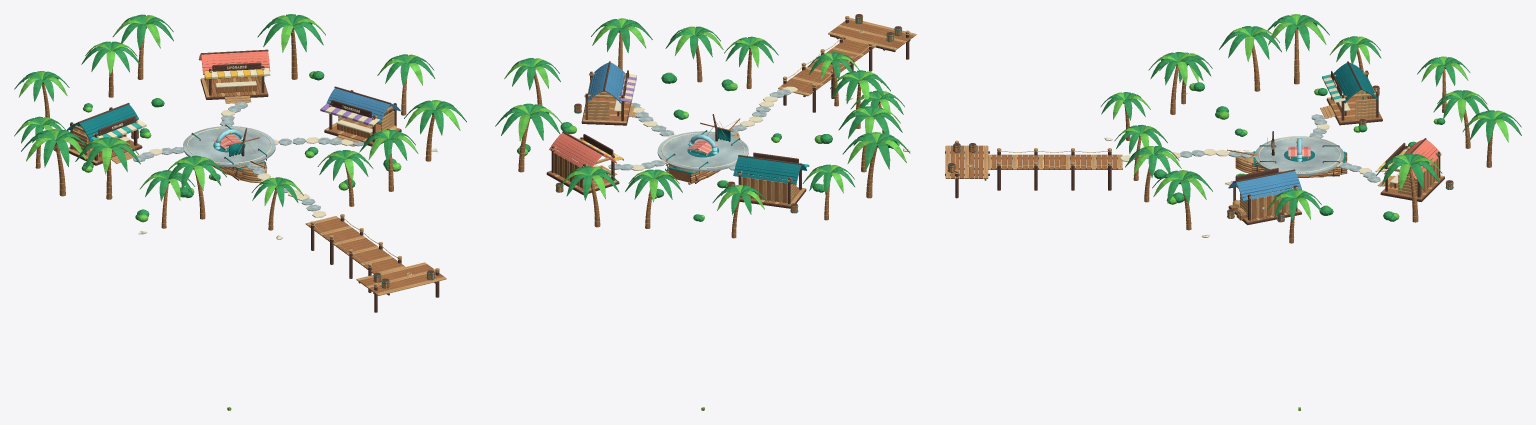
The model's file is SuckTheSea_Surfaces.fbx.
3 renders of one model, left to right at view 1: azimuth 30°, elevation 25°; view 2: azimuth 150°, elevation 25°; view 3: azimuth 270°, elevation 25°, orthographic. The views are drawn at different scales.
Parts seen in each view (by area): view 1: island__Buildings__UpgradeShop, island__Buildings__TreasureShop, island__Buildings__StrawShop, island__StarterIsland__Plaza, polish__Dock__PierBoard, island__StarterIsland__PathStone, island__Decorations__Palm_08, island__Decorations__Palm_12, polish__Dock__PierHead, island__Decorations__Palm_01, island__Decorations__Palm_06, island__Decorations__Palm_02 (+10 smaller); view 2: island__Buildings__StrawShop, island__Buildings__TreasureShop, island__Buildings__UpgradeShop, island__StarterIsland__Plaza, island__StarterIsland__PathStone, polish__Dock__PierBoard, polish__Dock__PierHead, island__Decorations__Palm_12, island__Decorations__Palm_08, island__Decorations__Palm_13, island__Decorations__Palm_06, island__Decorations__Palm_01 (+10 smaller); view 3: island__Buildings__StrawShop, island__Buildings__TreasureShop, island__StarterIsland__Plaza, polish__Dock__PierBoard, island__Buildings__UpgradeShop, island__Decorations__Palm_08, island__Decorations__Palm_12, polish__Dock__PierHead, island__StarterIsland__PathStone, island__Decorations__Palm_01, island__Decorations__Palm_02, island__Decorations__Palm_06 (+9 smaller).
Part boxes in pixels (bbox=[...]): island__Buildings__UpgradeShop: bbox=[198, 49, 270, 103]; island__Buildings__TreasureShop: bbox=[320, 86, 401, 146]; island__Buildings__StrawShop: bbox=[66, 103, 146, 165]; island__StarterIsland__Plaza: bbox=[183, 126, 275, 166]; polish__Dock__PierBoard: bbox=[305, 216, 405, 273]; island__StarterIsland__PathStone: bbox=[132, 102, 364, 217]; island__Decorations__Palm_08: bbox=[257, 14, 325, 79]; island__Decorations__Palm_12: bbox=[21, 129, 89, 196]; polish__Dock__PierHead: bbox=[356, 262, 446, 295]; island__Decorations__Palm_01: bbox=[75, 137, 140, 199]; island__Decorations__Palm_06: bbox=[404, 100, 466, 161]; island__Decorations__Palm_02: bbox=[167, 155, 226, 219]; island__Buildings__StrawShop: bbox=[733, 152, 809, 208]; island__Buildings__TreasureShop: bbox=[581, 61, 641, 125]; island__Buildings__UpgradeShop: bbox=[546, 131, 623, 195]; island__StarterIsland__Plaza: bbox=[657, 131, 748, 171]; island__StarterIsland__PathStone: bbox=[608, 86, 797, 178]; polish__Dock__PierBoard: bbox=[778, 38, 876, 96]; polish__Dock__PierHead: bbox=[828, 17, 916, 50]; island__Decorations__Palm_12: bbox=[842, 132, 910, 198]; island__Decorations__Palm_08: bbox=[495, 103, 562, 172]; island__Decorations__Palm_13: bbox=[559, 166, 618, 227]; island__Decorations__Palm_06: bbox=[591, 18, 652, 69]; island__Decorations__Palm_01: bbox=[838, 106, 902, 172]; island__Buildings__StrawShop: bbox=[1320, 61, 1382, 125]; island__Buildings__TreasureShop: bbox=[1225, 168, 1301, 224]; island__StarterIsland__Plaza: bbox=[1254, 136, 1344, 175]; polish__Dock__PierBoard: bbox=[988, 154, 1122, 169]; island__Buildings__UpgradeShop: bbox=[1375, 138, 1444, 201]; island__Decorations__Palm_08: bbox=[1376, 153, 1442, 222]; island__Decorations__Palm_12: bbox=[1266, 14, 1329, 84]; polish__Dock__PierHead: bbox=[945, 145, 988, 178]; island__StarterIsland__PathStone: bbox=[1120, 114, 1380, 201]; island__Decorations__Palm_01: bbox=[1219, 26, 1281, 91]; island__Decorations__Palm_02: bbox=[1148, 52, 1208, 114]; island__Decorations__Palm_06: bbox=[1152, 170, 1212, 230].
Size of the model in its own units: 172 by 130 by 219.
Materials: 4 (4 with a texture image).
